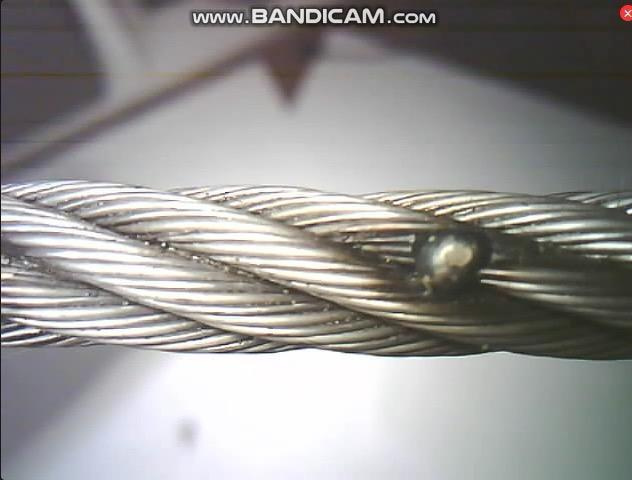thunderbolt: (379, 229, 504, 302)
